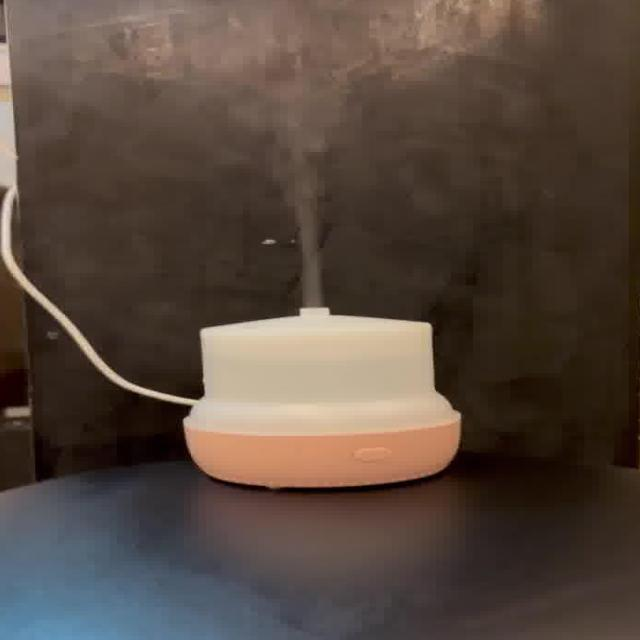fire: (137, 76, 356, 302)
